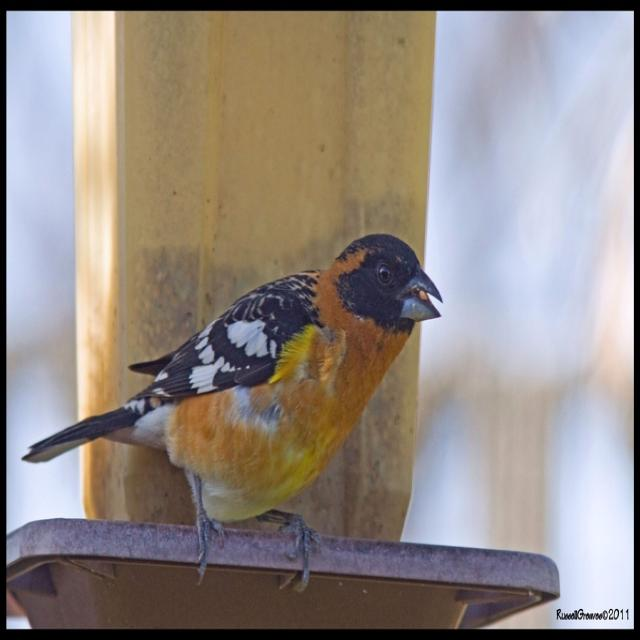bird: (15, 223, 448, 592)
